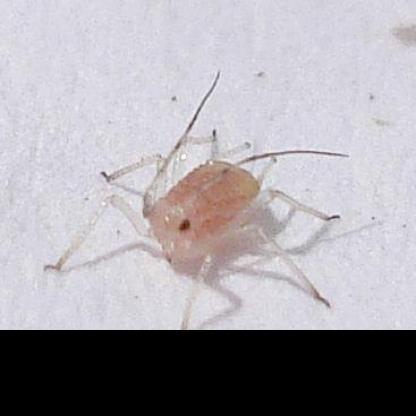aphid: (45, 59, 349, 319)
